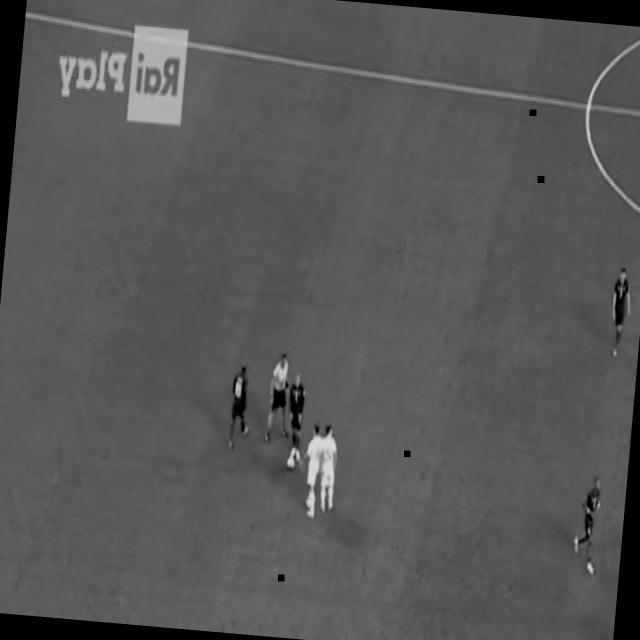ball: (224, 358, 258, 454), (282, 455, 298, 469)
player-white: (570, 471, 606, 579), (262, 349, 296, 449), (312, 420, 343, 515), (296, 420, 324, 522), (606, 265, 636, 359), (282, 371, 310, 471)
